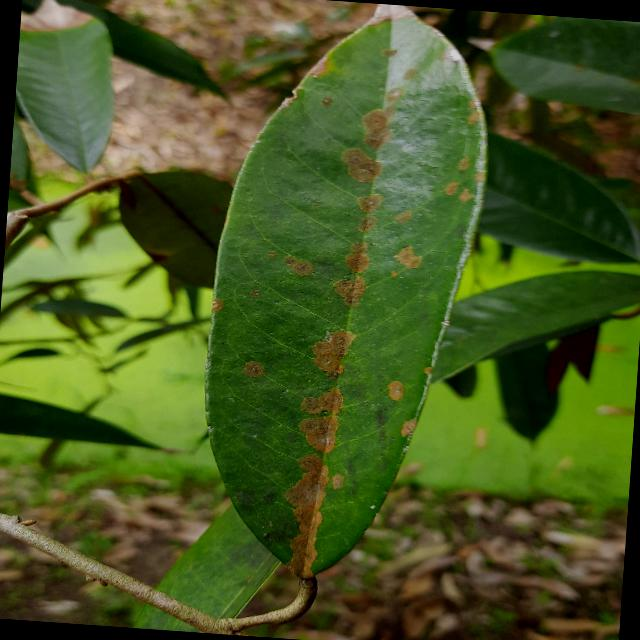Algal Leaf Spot: (177, 0, 505, 639)
